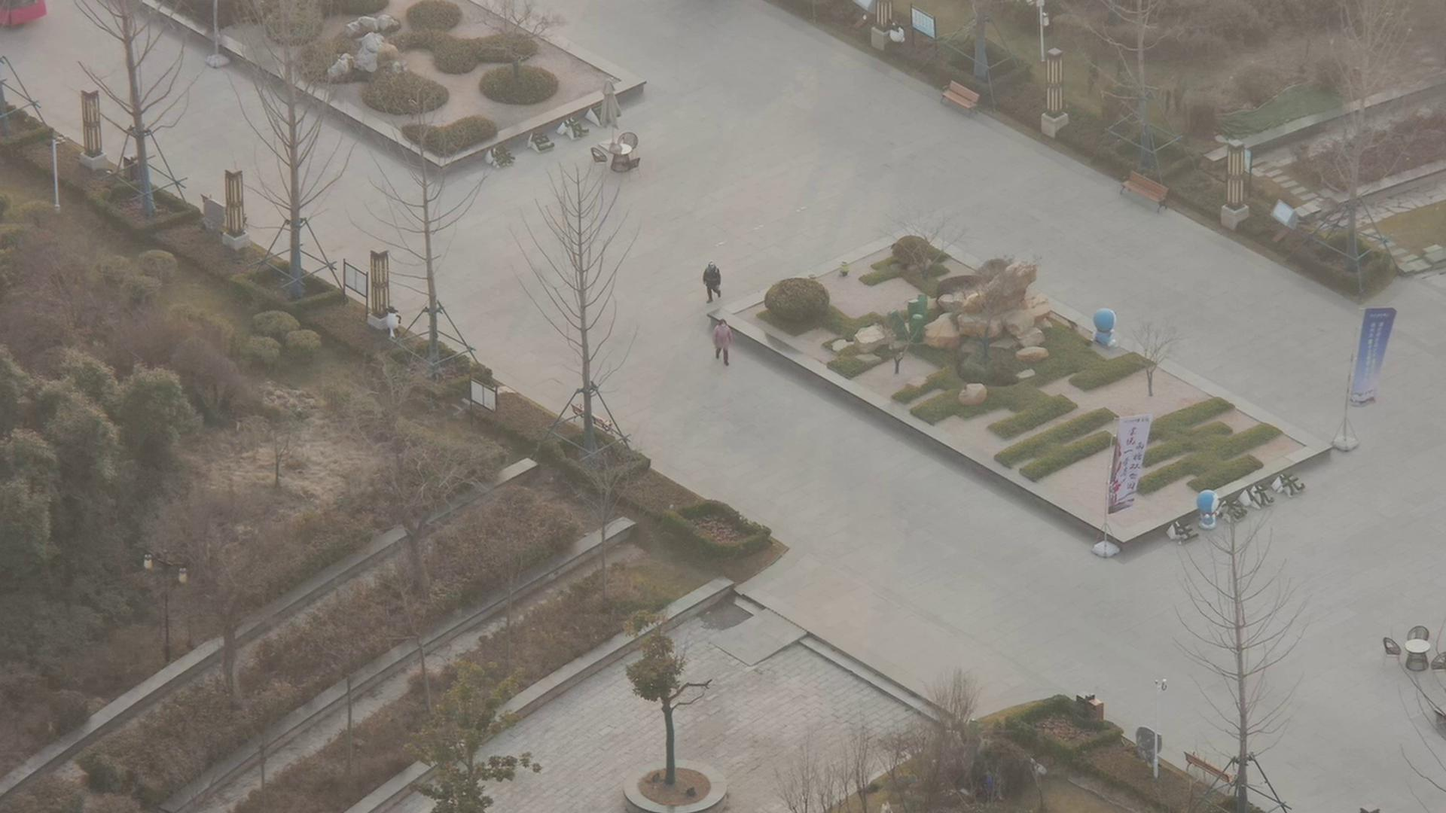human: (700, 303, 740, 364), (700, 242, 734, 294)
